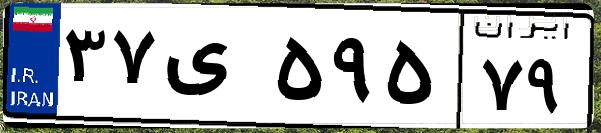3: (57, 26, 110, 100)
5: (270, 28, 330, 110), (385, 28, 445, 110)
7: (475, 38, 525, 113), (110, 28, 158, 98)
9: (330, 28, 385, 110), (525, 38, 570, 115)
ی: (158, 20, 270, 120)
